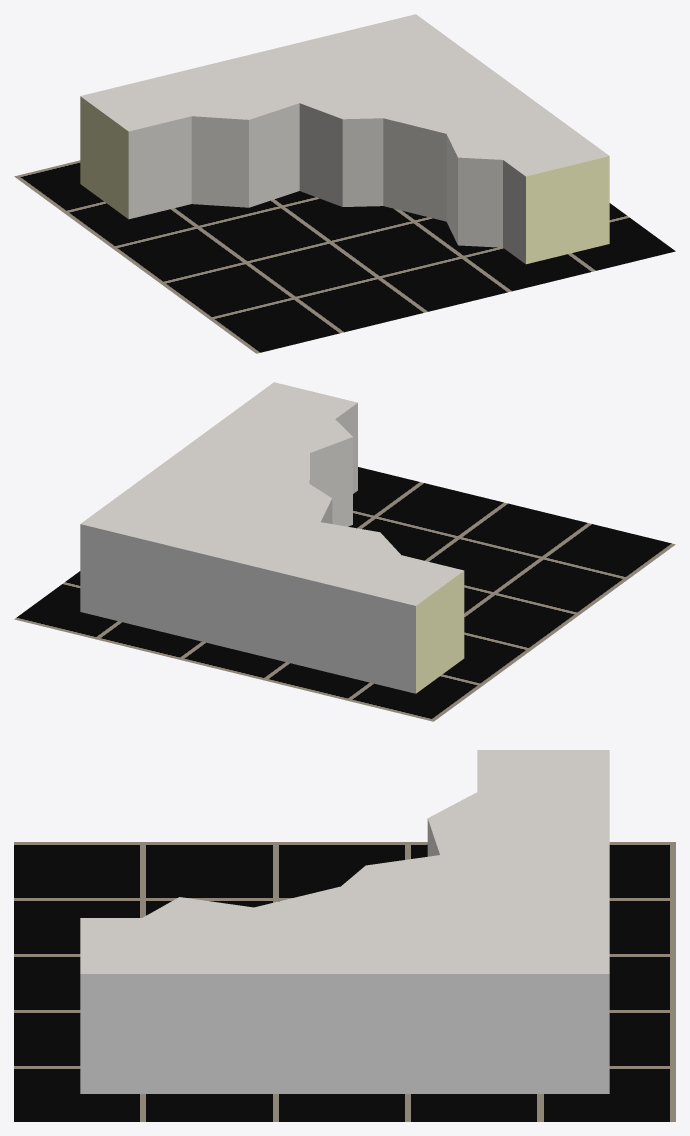
Rendered from Cracked_Curve_Inner_4x4_1_Mid.glb.
3 renders of one model, top to bottom at view 1: azimuth 30°, elevation 25°; view 2: azimuth 150°, elevation 25°; view 3: azimuth 270°, elevation 25°, orthographic. The views are drawn at different scales.
Parts seen in each view (by area): view 1: Cracked_Curve_Inner_4x4_1_Mid, Floor; view 2: Cracked_Curve_Inner_4x4_1_Mid, Floor; view 3: Cracked_Curve_Inner_4x4_1_Mid, Floor.
Part boxes in pixels (x1,y1,x2,y2): Cracked_Curve_Inner_4x4_1_Mid: (80,14,609,264); Floor: (14,160,675,353); Cracked_Curve_Inner_4x4_1_Mid: (80,382,464,693); Floor: (14,467,675,721); Cracked_Curve_Inner_4x4_1_Mid: (80,750,609,1093); Floor: (14,842,675,1121).
Size of the model in its own units: 500 by 100 by 500.
Materials: 4 (1 with a texture image).
